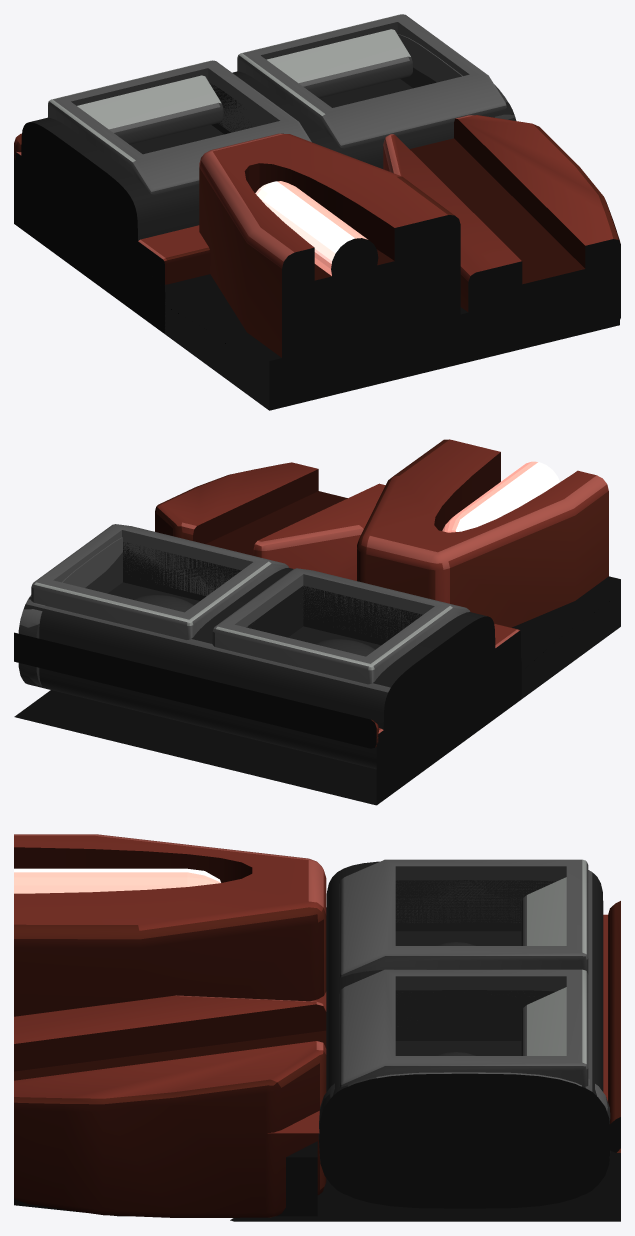
Rendered from savara_boss_167.glb.
The picture shows the model from 3 angles, top to bottom: view 1: azimuth 30°, elevation 25°; view 2: azimuth 150°, elevation 25°; view 3: azimuth 270°, elevation 25°; orthographic projection. The views are drawn at different scales.
Parts seen in each view (by area): view 1: savara_boss_167; view 2: savara_boss_167; view 3: savara_boss_167.
Boxes of the visible parts, <box> form: savara_boss_167: <box>14,14,620,410</box>; savara_boss_167: <box>14,439,620,805</box>; savara_boss_167: <box>14,834,620,1221</box>.
Bounding box in the file's own units: 24 × 9.2 × 28.
